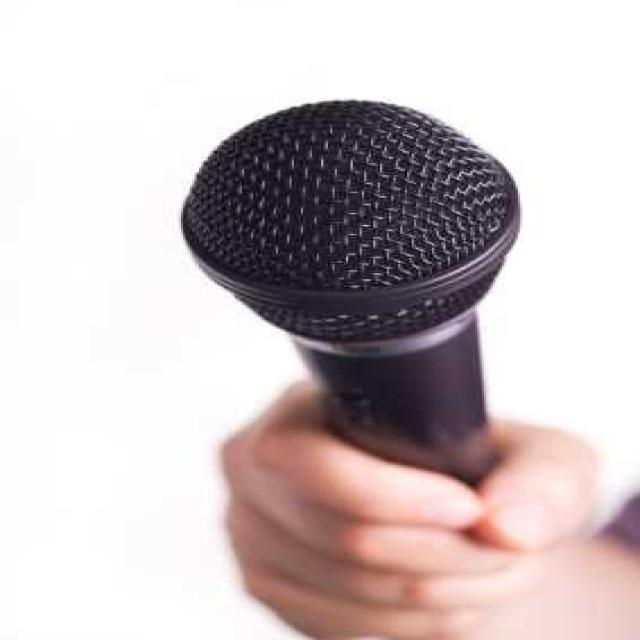microphone: (173, 99, 526, 487)
